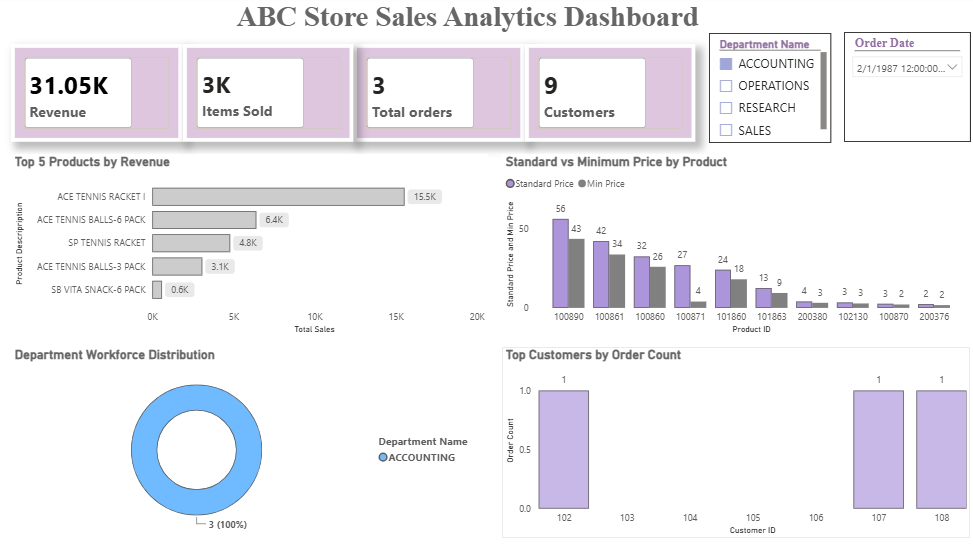

The page's visual inventory and layout, read from the dashboard file:
{"tool":"powerbi","page":{"name":"Page 1","canvas":[1280,720],"ordinal":0},"visuals":[{"type":"textbox","box":[0,0,1224,72],"z":0},{"type":"cardVisual","fields":{"Data":["O_CUSTOMER.Total Revenues"]},"box":[14.4,63.4,224.6,128.2],"z":1000},{"type":"cardVisual","fields":{"Data":["O_CUSTOMER.Total orders"]},"box":[462.2,63.4,224.6,128.2],"z":2000},{"type":"cardVisual","fields":{"Data":["O_CUSTOMER.Customers"]},"box":[686.9,63.4,223.2,128.2],"z":3000},{"type":"cardVisual","fields":{"Data":["O_CUSTOMER.Items Sold"]},"box":[239,63.4,223.2,128.2],"z":4000},{"type":"slicer","fields":{"Values":["O_ORD.ORDERDATE"]},"box":[1104.5,47.5,165.6,144],"z":5000},{"type":"slicer","fields":{"Values":["O_DEPT.DNAME"]},"box":[928,48,160,144],"z":6000},{"type":"clusteredBarChart","title":"Top 5 Products by Revenue","fields":{"Category":["O_PRODUCT.DESCRIP"],"Y":["Sum(O_ITEM.ITEMTOT)"]},"box":[14.4,207.4,625,240.5],"z":7000},{"type":"clusteredColumnChart","title":"Top Customers by Order Count","fields":{"Category":["O_CUSTOMER.CUSTID"],"Y":["O_CUSTOMER.Order Count"]},"box":[656.6,459.4,613.4,250.6],"z":8000},{"type":"donutChart","title":"Department Workforce Distribution","fields":{"Category":["O_DEPT.DNAME"],"Y":["Count(O_EMP.EMPNO)"]},"box":[14.4,459.4,625,250.6],"z":9000},{"type":"clusteredColumnChart","title":"Standard vs Minimum Price by Product","fields":{"Y":["Avg(O_PRICE.STDPRICE)","Avg(O_PRICE.MINPRICE)"],"Category":["O_PRICE.PRODID"]},"box":[656.6,207.4,613.4,240.5],"z":10000}]}

Visuals, with their boxes in screenshot pixels (x1, y1, x2, y2), scaled from the page's 1280x720 canvas onto the 973x544 screenshot:
textbox: [left=0, top=0, right=930, bottom=54]
cardVisual - O_CUSTOMER.Total Revenues: [left=11, top=48, right=182, bottom=145]
cardVisual - O_CUSTOMER.Total orders: [left=351, top=48, right=522, bottom=145]
cardVisual - O_CUSTOMER.Customers: [left=522, top=48, right=692, bottom=145]
cardVisual - O_CUSTOMER.Items Sold: [left=182, top=48, right=351, bottom=145]
slicer - O_ORD.ORDERDATE: [left=840, top=36, right=965, bottom=145]
slicer - O_DEPT.DNAME: [left=705, top=36, right=827, bottom=145]
"Top 5 Products by Revenue" clusteredBarChart: [left=11, top=157, right=486, bottom=338]
"Top Customers by Order Count" clusteredColumnChart: [left=499, top=347, right=965, bottom=536]
"Department Workforce Distribution" donutChart: [left=11, top=347, right=486, bottom=536]
"Standard vs Minimum Price by Product" clusteredColumnChart: [left=499, top=157, right=965, bottom=338]
